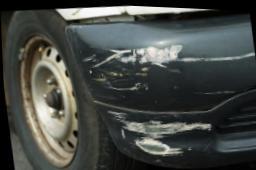Bumper: (64, 8, 256, 167)
